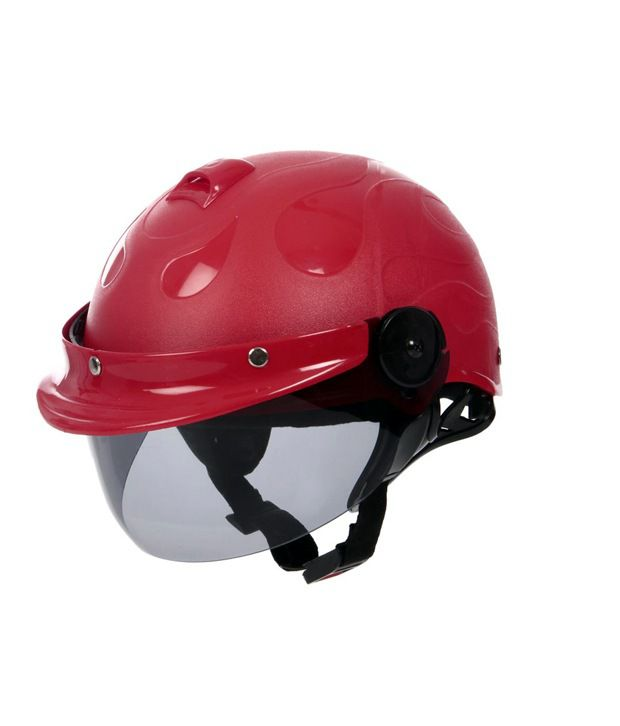with_helmet: (34, 144, 521, 587)
